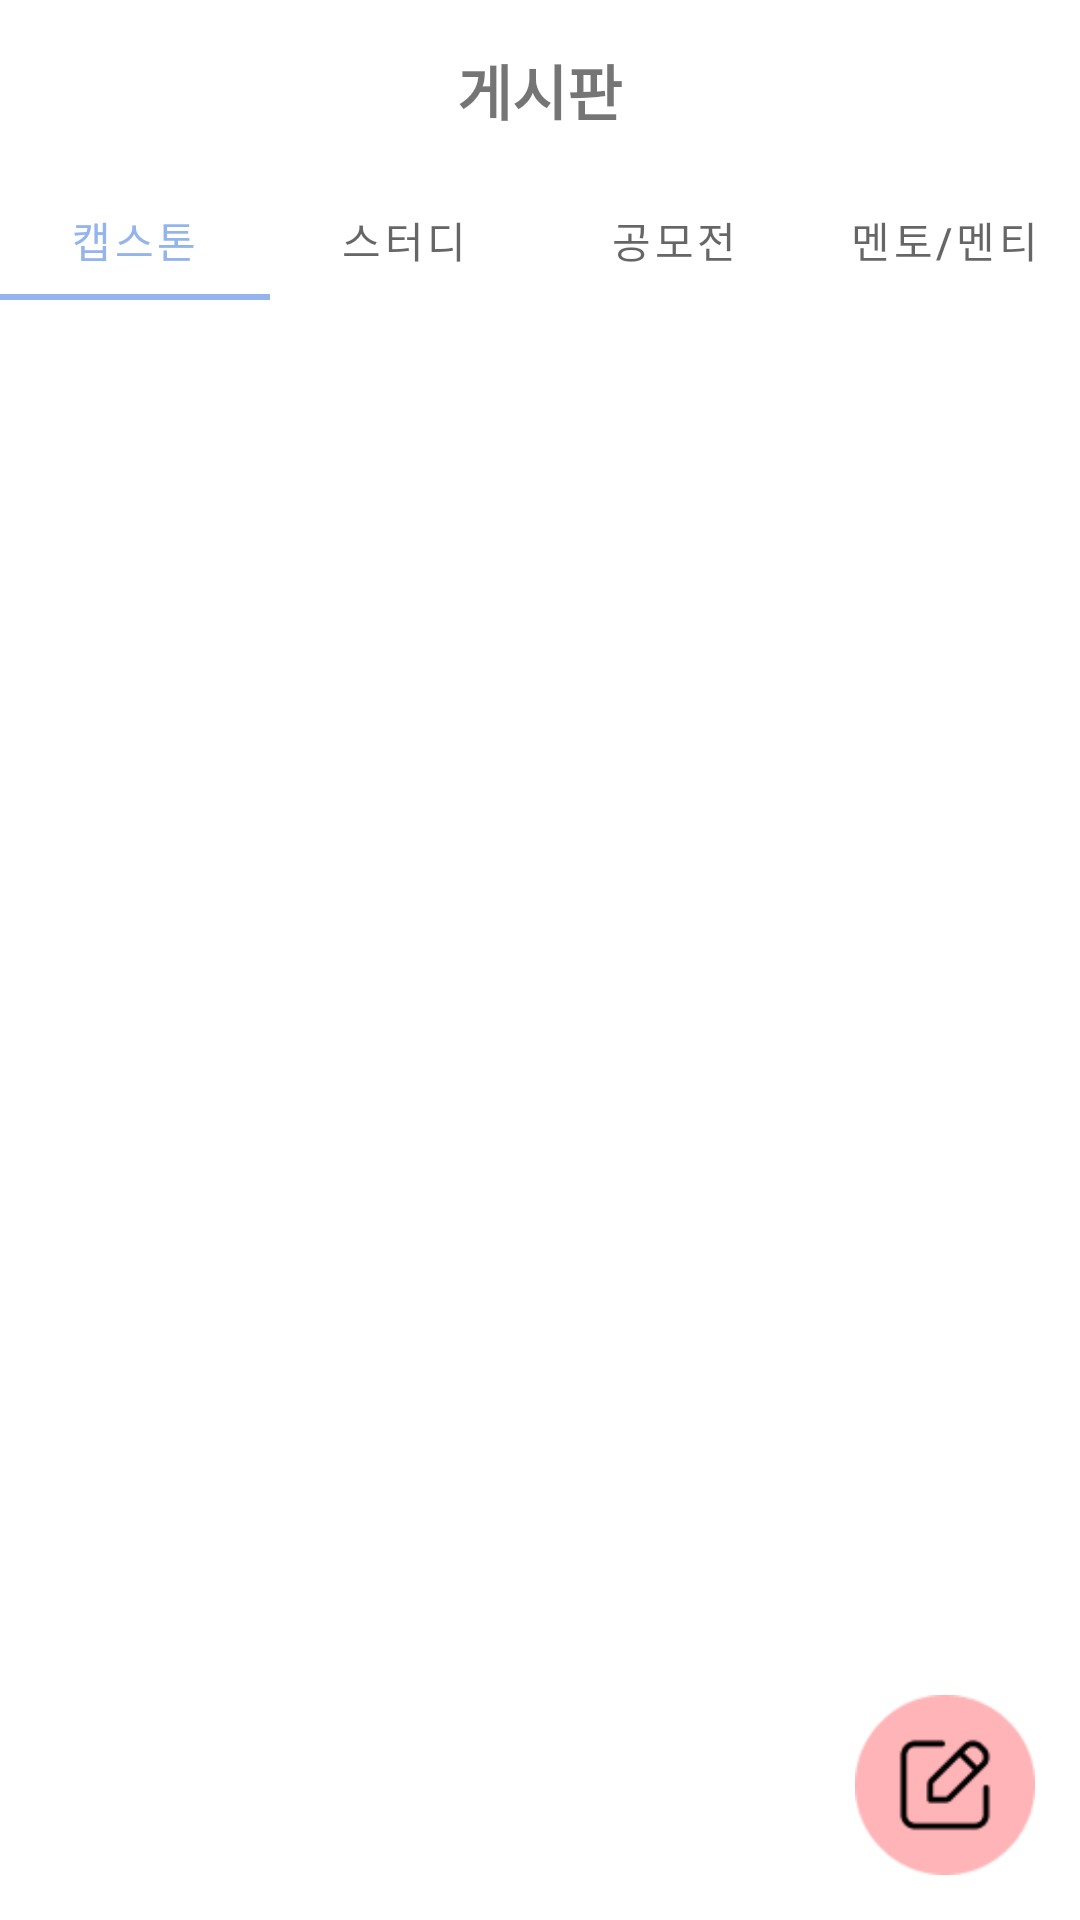

Locate icon controls on the screen. Image size 1080 × 1920, boxes as [x1, y1, x2, y2].
add article: [855, 1695, 1035, 1875]
